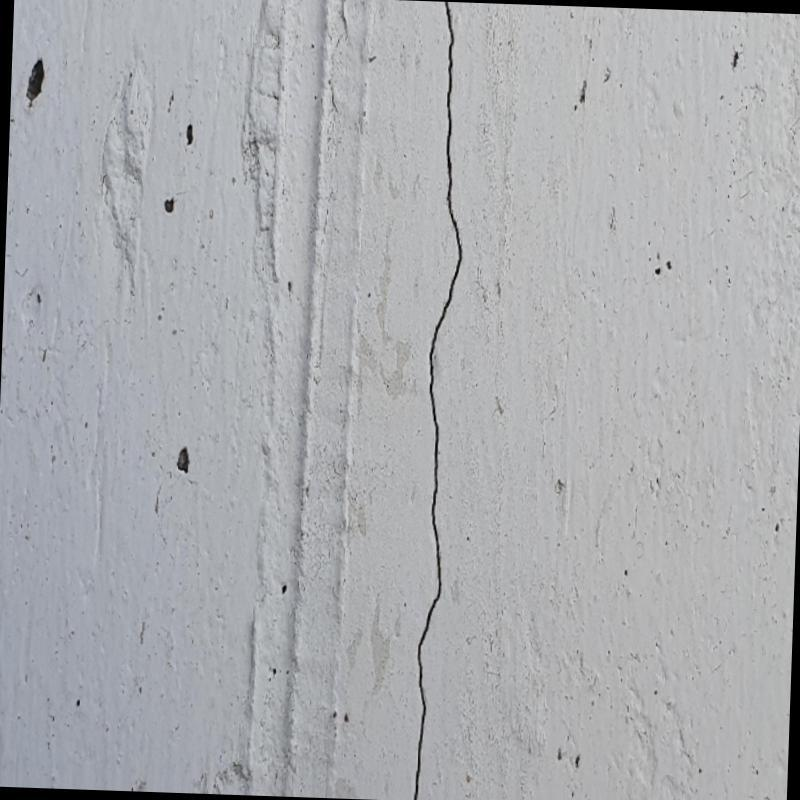crack: (412, 3, 463, 800)
